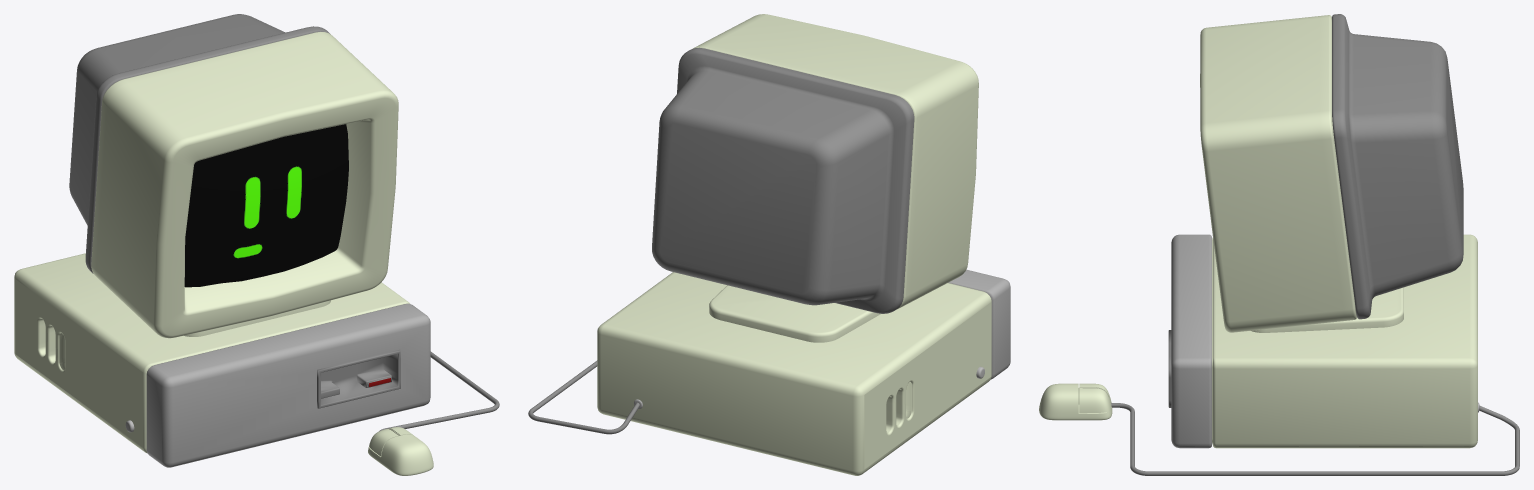
The model's file is very_cute_retro_pc_looking_mascot_for_mokesell.glb.
3 views of the same model, side by side, from view 1: azimuth 30°, elevation 25°; view 2: azimuth 150°, elevation 25°; view 3: azimuth 270°, elevation 25° (orthographic).
Visible parts, largest first — view 1: computer_monitor, computer_base, computer_mouse; view 2: computer_monitor, computer_base, computer_mouse; view 3: computer_monitor, computer_base, computer_mouse.
Part boxes in pixels (<box>): computer_monitor: <box>69,14,398,338</box>; computer_base: <box>14,253,430,467</box>; computer_mouse: <box>368,351,499,475</box>; computer_monitor: <box>652,14,978,313</box>; computer_base: <box>597,269,1010,475</box>; computer_mouse: <box>528,360,639,434</box>; computer_monitor: <box>1200,14,1463,332</box>; computer_base: <box>1168,234,1479,448</box>; computer_mouse: <box>1039,383,1519,475</box>.
Bounding box in the file's own units: 0.66 × 0.6374 × 0.8574.
6 materials, 1 textured.
